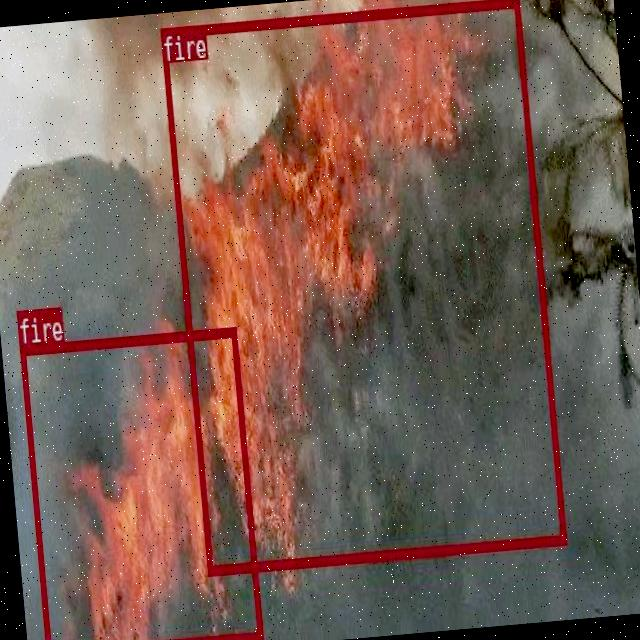fire: (158, 0, 564, 573), (17, 325, 261, 640)
